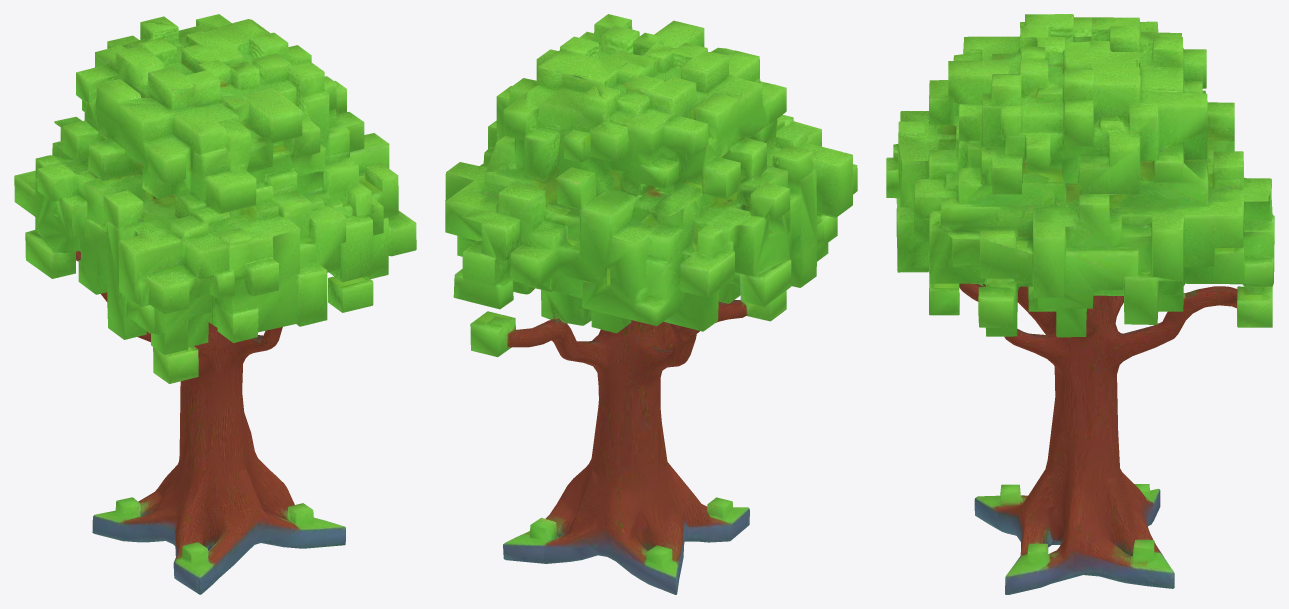
Rendered from tree_u.glb.
3 renders of one model, left to right at view 1: azimuth 30°, elevation 25°; view 2: azimuth 150°, elevation 25°; view 3: azimuth 270°, elevation 25°, orthographic. The views are drawn at different scales.
Bounding box in the file's own units: 1.28 × 1.91 × 1.34.
1 material, 1 textured.
